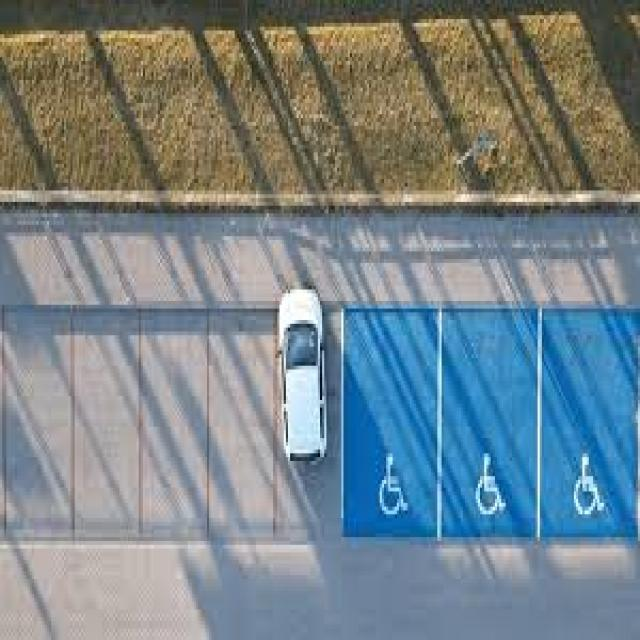symbol_of_access: (473, 452, 507, 516), (377, 452, 409, 514), (575, 454, 604, 516)
